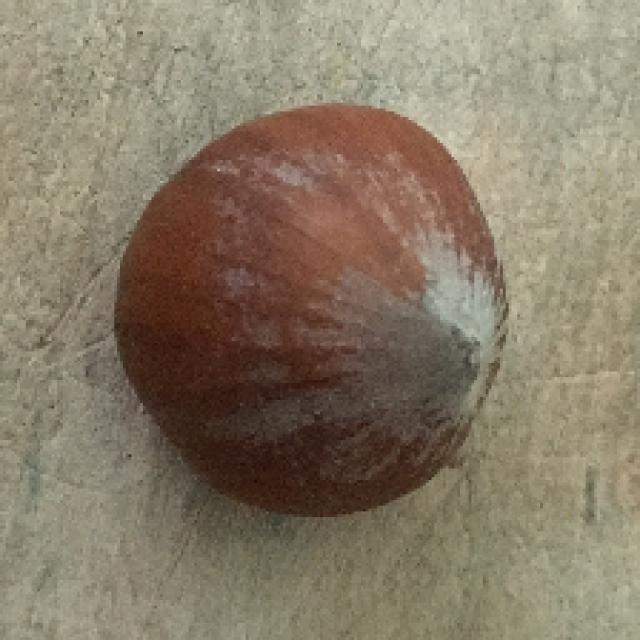qualityHazelnut: (118, 101, 506, 510)
